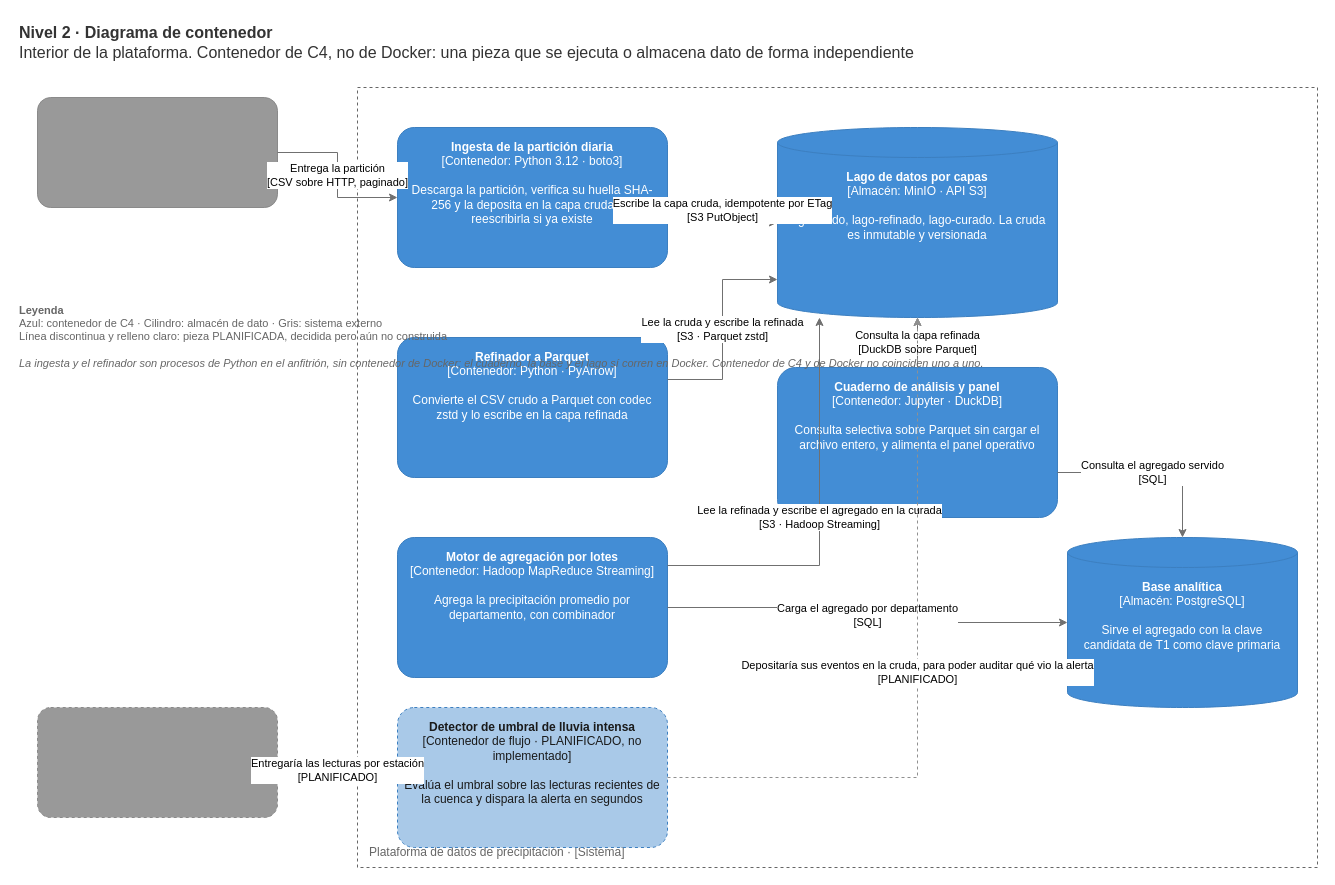
The diagram is 1335 pixels wide and 885 high, and some of its shapes have lost their labels. The shapes that lost their labels are listed below. From the top down, each one's box as (x1, y1, x2, y2) in pixels, then its label:
(36, 96, 278, 208): Portal de Datos Abiertos [Sistema externo] Publica s54a-sgyg, 1 vez al día
(36, 706, 278, 818): Telemetría de estaciones [Sistema externo · PLANIFICADO] Lecturas por estación
